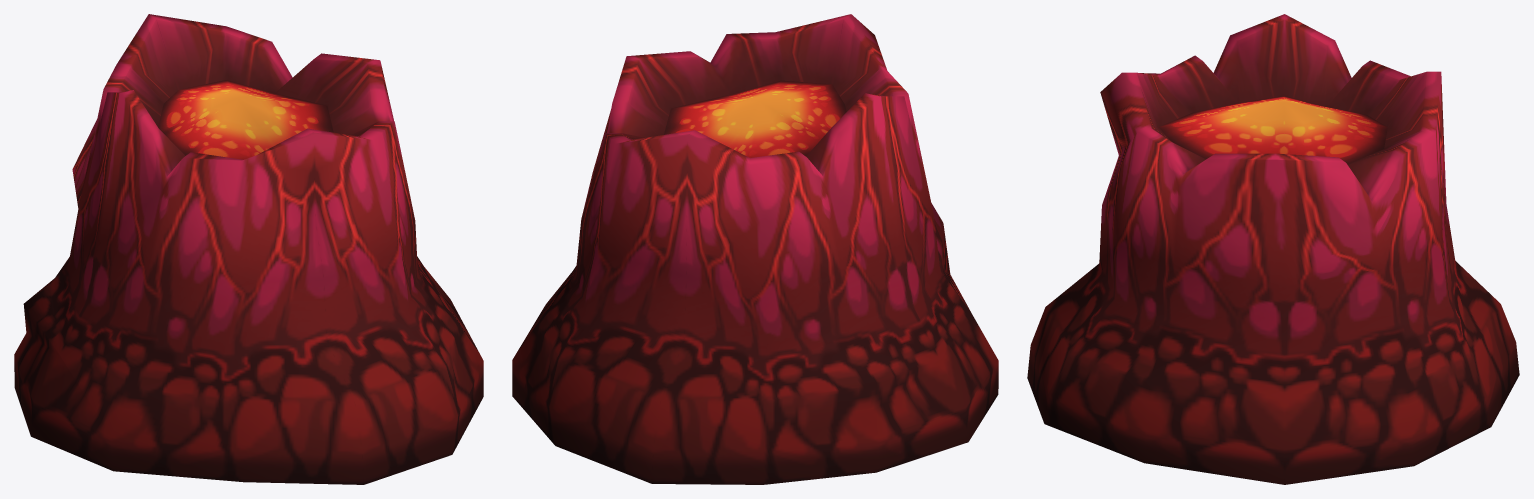
Rendered from Volcano_04.FBX.
3 renders of one model, left to right at view 1: azimuth 30°, elevation 25°; view 2: azimuth 150°, elevation 25°; view 3: azimuth 270°, elevation 25°, orthographic. The views are drawn at different scales.
Parts seen in each view (by area): view 1: Volcano_04; view 2: Volcano_04; view 3: Volcano_04.
Boxes of the visible parts, bbox=[...] form: Volcano_04: bbox=[14, 14, 483, 484]; Volcano_04: bbox=[512, 14, 998, 484]; Volcano_04: bbox=[1027, 14, 1519, 484].
Bounding box in the file's own units: 327 × 236 × 338.
